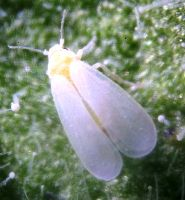whitefly: (7, 8, 158, 183)
